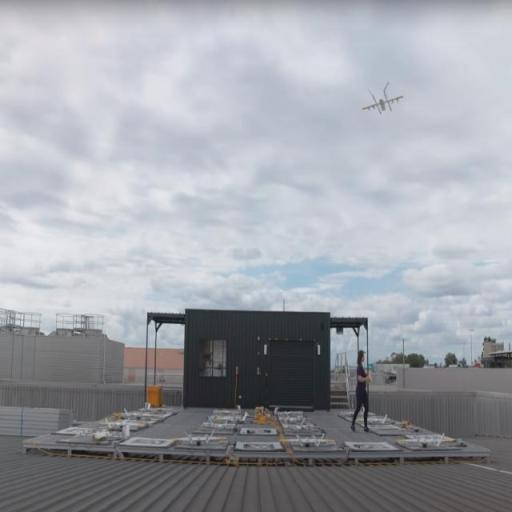uav: (360, 82, 407, 120)
